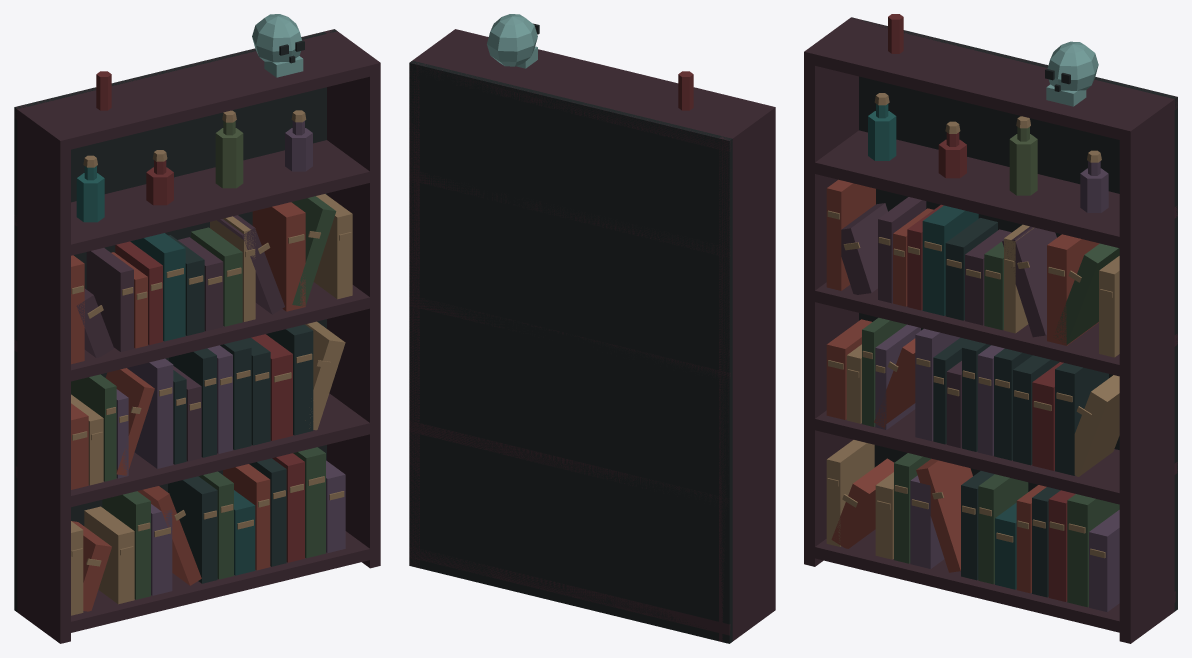
Rendered from raft.glb.
The picture shows the model from 3 angles, left to right: view 1: azimuth 30°, elevation 25°; view 2: azimuth 150°, elevation 25°; view 3: azimuth 330°, elevation 25°; orthographic projection.
Visible parts, largest first — view 1: Raft; view 2: Raft; view 3: Raft.
Part boxes in pixels (x1=…): Raft: x1=14, y1=14, x2=380, y2=643; Raft: x1=409, y1=14, x2=775, y2=643; Raft: x1=804, y1=14, x2=1177, y2=643.
Bounding box in the file's own units: 1.2 × 1.98 × 0.3.
